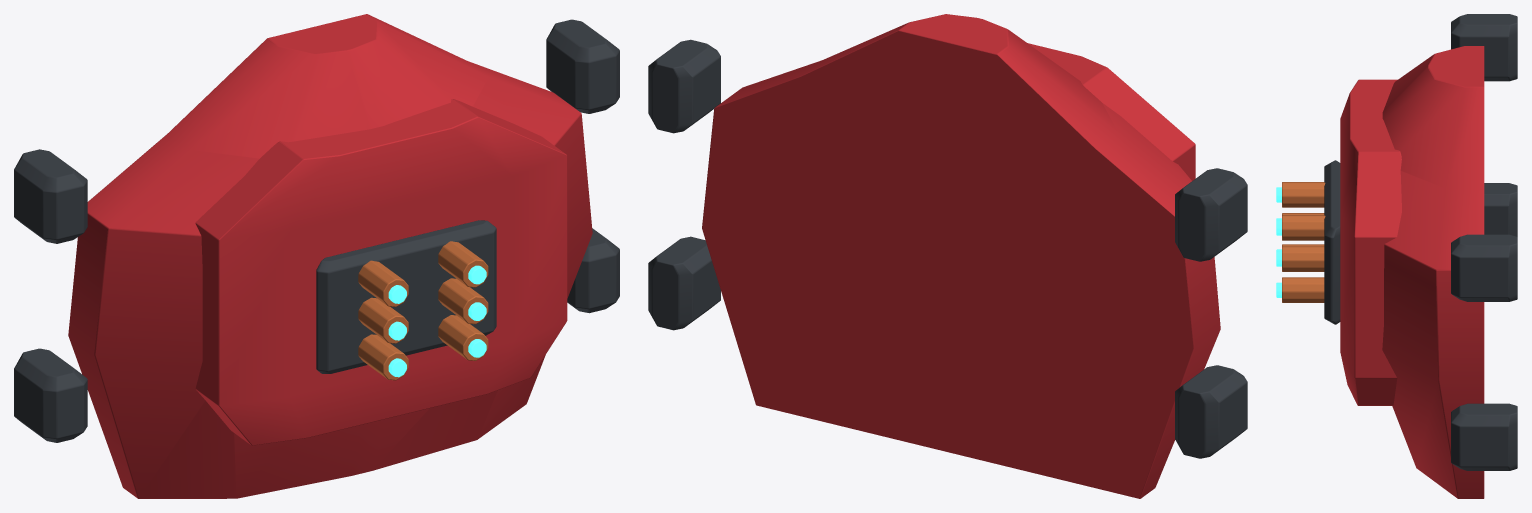
File: ShoulderBack_Set06_Voltaic.fbx
3 renders of one model, left to right at view 1: azimuth 30°, elevation 25°; view 2: azimuth 150°, elevation 25°; view 3: azimuth 270°, elevation 25°, orthographic. The views are drawn at different scales.
Parts seen in each view (by area): view 1: ShoulderBack_Set06_Voltaic; view 2: ShoulderBack_Set06_Voltaic; view 3: ShoulderBack_Set06_Voltaic.
Boxes of the visible parts, bbox=[...] form: ShoulderBack_Set06_Voltaic: bbox=[14, 14, 619, 498]; ShoulderBack_Set06_Voltaic: bbox=[648, 14, 1247, 498]; ShoulderBack_Set06_Voltaic: bbox=[1276, 14, 1517, 498].
Bounding box in the file's own units: 0.51 × 0.35 × 0.2172.
